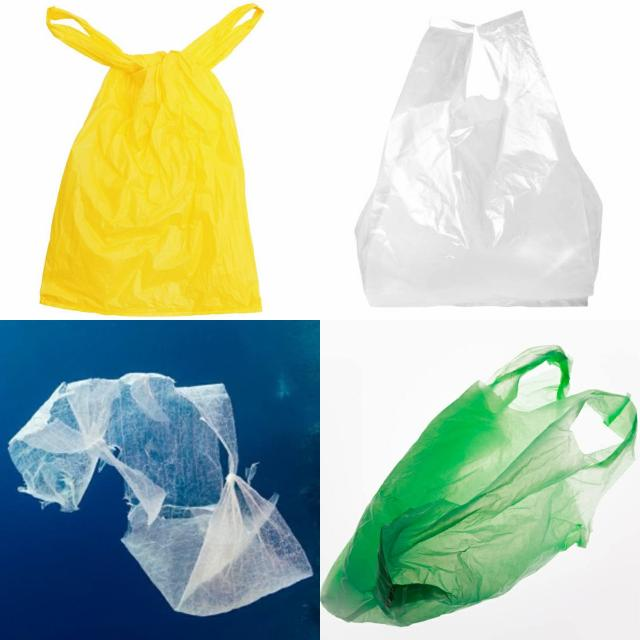Single-layer Plastic: (321, 346, 636, 625), (9, 372, 312, 616), (356, 12, 601, 306), (40, 4, 262, 316)
